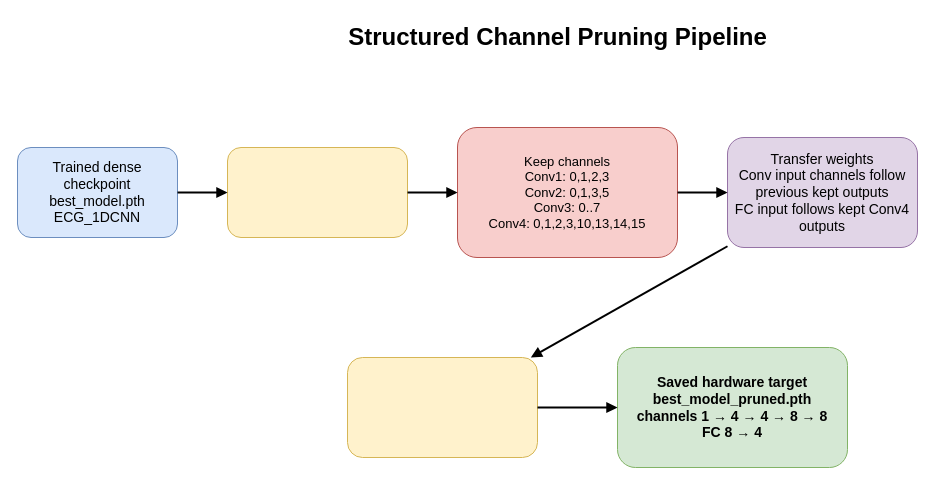
Image size: 935x485. Some labels were removed from this diagram. Each missing label, with the centre of its shape:
"Fine-tune pruned model 30 epochs @ 1e-3 20 epochs @ 1e-4" belongs at (x=442, y=407).
"Rank conv output channels Taylor score + gradients fallback: L1-norm" belongs at (x=317, y=192).
